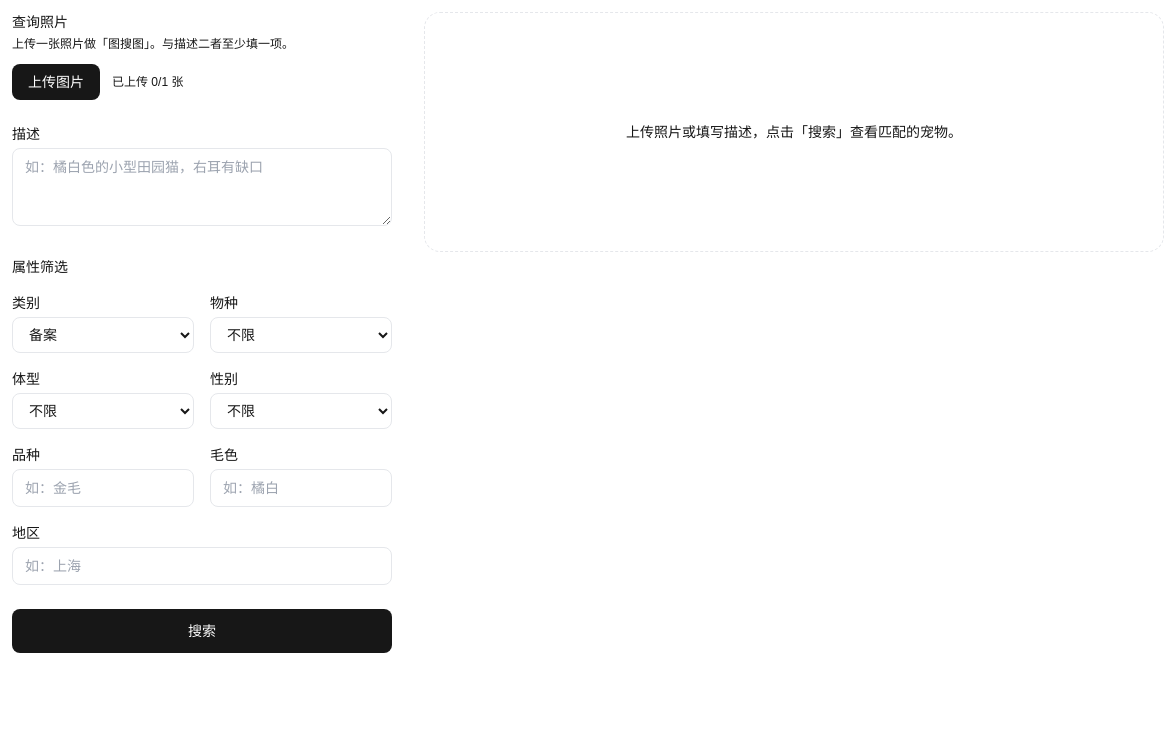
Test: SearchForm › displays error message for generic network errors
This screenshot has width=1164, height=732.
Type "cat" into the text box labelled "描述" at (202, 187), box [12,148,392,226]
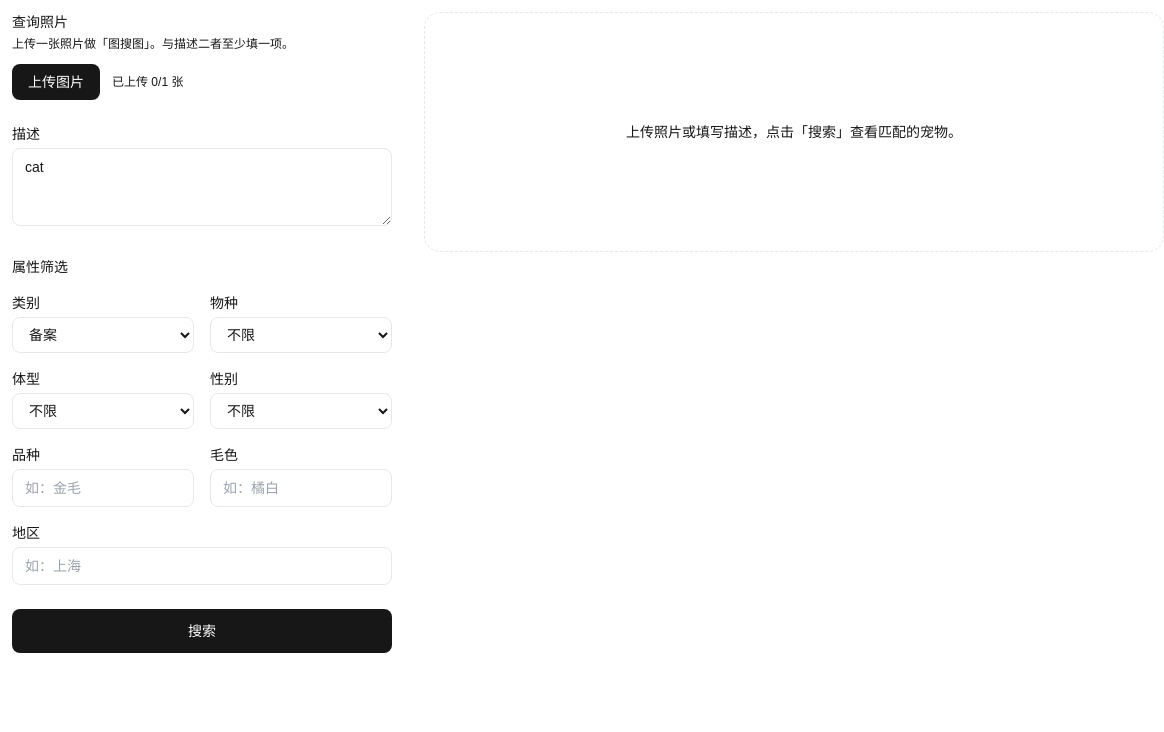
Click the button "搜索" at (202, 631), box [12,609,392,653]
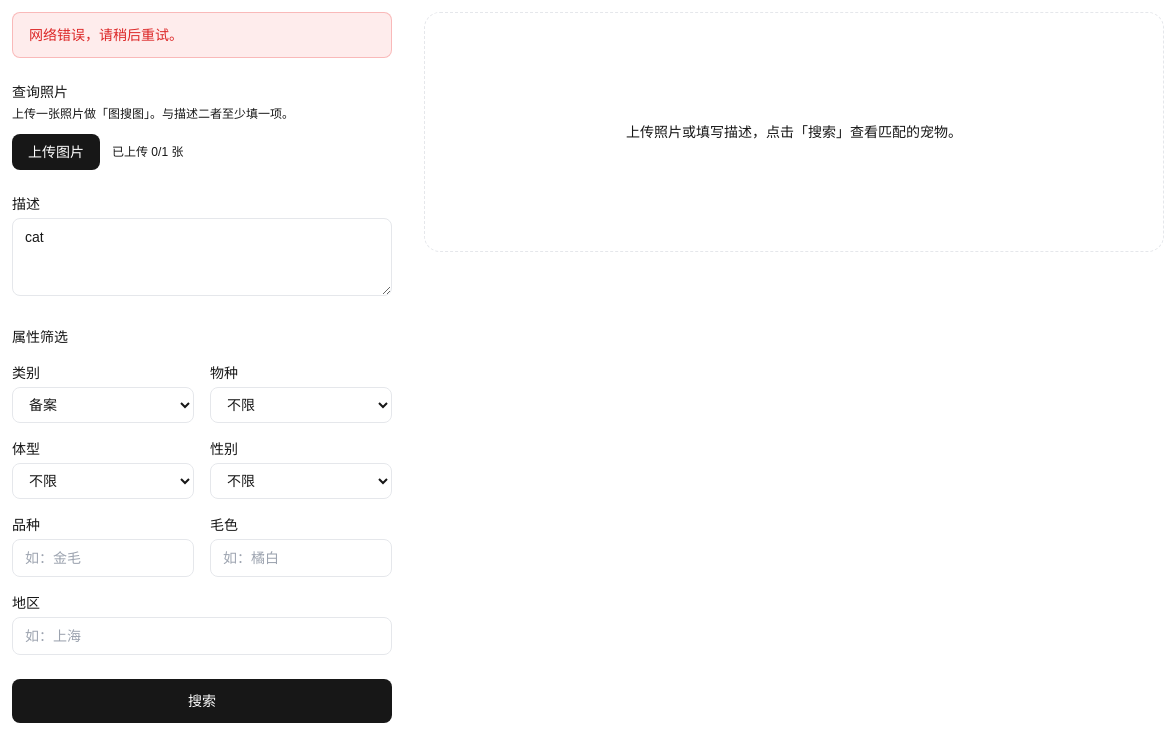
expect the message shows "网络": met, box [12,12,392,58]
